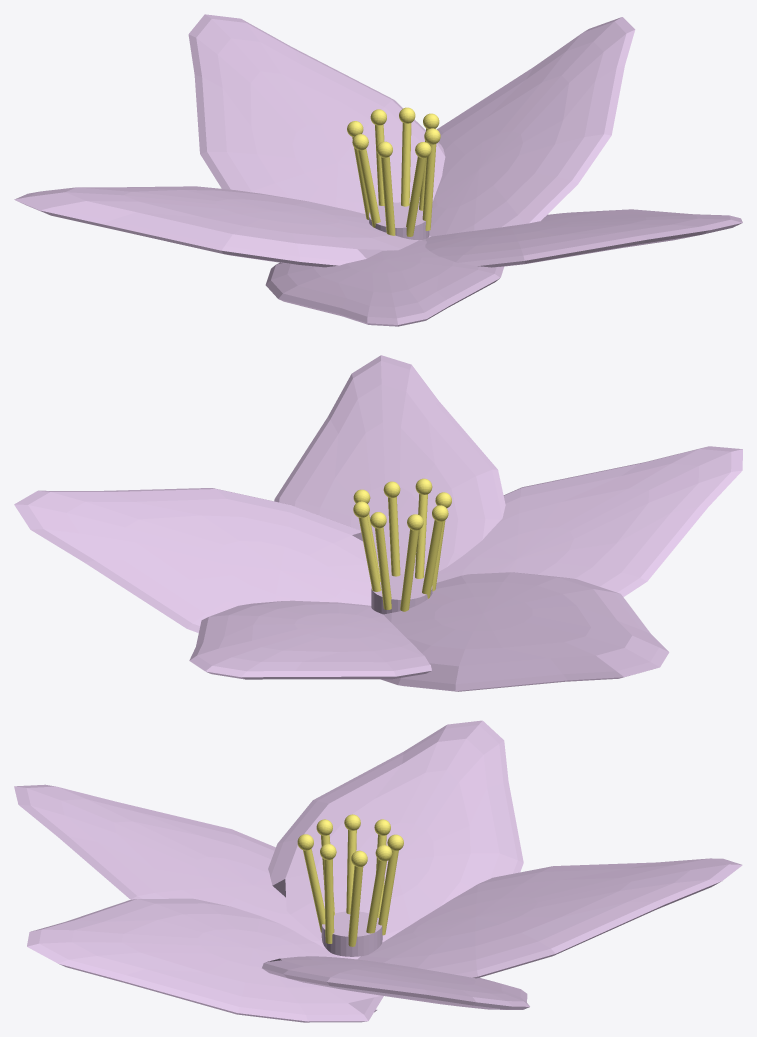
3 renders of one model, top to bottom at view 1: azimuth 30°, elevation 25°; view 2: azimuth 150°, elevation 25°; view 3: azimuth 270°, elevation 25°, orthographic.
Visible parts, largest first — view 1: 917f5efa; view 2: 917f5efa; view 3: 917f5efa.
Part boxes in pixels (x1,y1,x2,y2): 917f5efa: (14,14,742,326); 917f5efa: (14,355,742,691); 917f5efa: (14,720,742,1022).
Size of the model in its own units: 0.0731 by 0.0164 by 0.0736.
